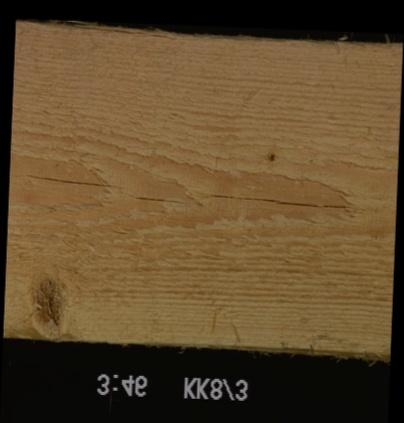small_knot: (264, 150, 276, 163)
sound_knot: (22, 270, 66, 338)
split: (205, 194, 346, 208), (21, 173, 119, 187), (120, 195, 186, 203)
wave: (2, 337, 389, 354)
